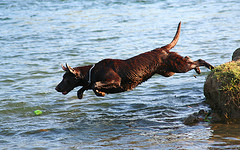tennis ball: (33, 108, 44, 119)
